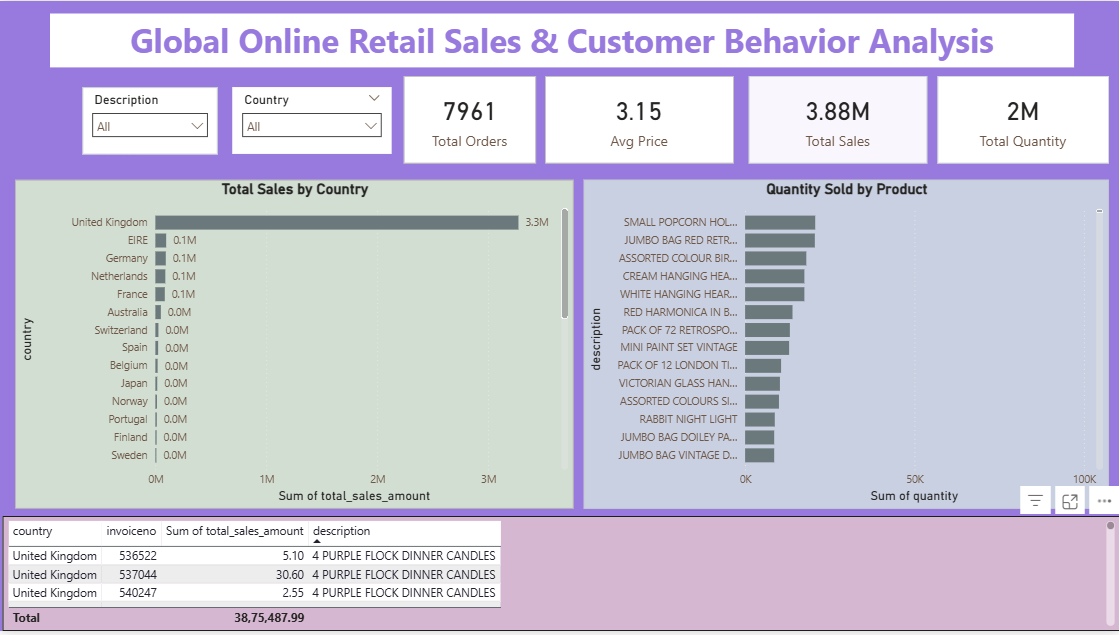

Layout of this report page (visuals, bound fields, positions):
{"tool":"powerbi","page":{"name":"Page 1","canvas":[1280,720],"ordinal":0},"visuals":[{"type":"clusteredBarChart","title":"Total Sales by Country","fields":{"Category":["dim_cusomer.country"],"Y":["Sum(fact_sales.total_sales_amount)"]},"box":[17.1,204.3,638.6,375.7],"z":0},{"type":"clusteredBarChart","title":"Quantity Sold by Product","fields":{"Category":["dim_products.description"],"Y":["Sum(fact_sales.quantity)"]},"box":[667.1,204.3,600,375.7],"z":1000},{"type":"card","fields":{"Values":["Sum(fact_sales.total_sales_amount)"]},"box":[855.7,85.7,204.3,100],"z":2000},{"type":"textbox","box":[57.1,14.3,1170,61.4],"z":3000},{"type":"slicer","fields":{"Values":["dim_cusomer.country"]},"box":[265.7,98.6,181.4,75.7],"z":4000},{"type":"card","fields":{"Values":["Sum(fact_sales.quantity)"]},"box":[1071.4,85.7,195.7,100],"z":5000},{"type":"card","fields":{"Values":["Avg(fact_sales.unitprice)"]},"box":[622.9,85.7,215.7,100],"z":6000},{"type":"slicer","fields":{"Values":["dim_products.description"]},"box":[94.3,98.6,154.3,77.1],"z":7000},{"type":"tableEx","fields":{"Values":["dim_cusomer.country","fact_sales.invoiceno","Sum(fact_sales.total_sales_amount)","dim_products.description"]},"box":[2.9,588.6,1277.1,131.4],"z":8000},{"type":"card","fields":{"Values":["Count(fact_sales.invoiceno)"]},"box":[461.4,85.7,151.4,100],"z":9000}]}

Visuals, with their boxes in screenshot pixels (x1, y1, x2, y2), scaled from the page's 1280x720 canvas onto the 1119x635 screenshot:
"Total Sales by Country" clusteredBarChart: rect(15, 180, 573, 512)
"Quantity Sold by Product" clusteredBarChart: rect(583, 180, 1108, 512)
card - Sum(fact_sales.total_sales_amount): rect(748, 76, 927, 164)
textbox: rect(50, 13, 1073, 67)
slicer - dim_cusomer.country: rect(232, 87, 391, 154)
card - Sum(fact_sales.quantity): rect(937, 76, 1108, 164)
card - Avg(fact_sales.unitprice): rect(545, 76, 733, 164)
slicer - dim_products.description: rect(82, 87, 217, 155)
tableEx - dim_cusomer.country x fact_sales.invoiceno: rect(3, 519, 1118, 634)
card - Count(fact_sales.invoiceno): rect(403, 76, 536, 164)
